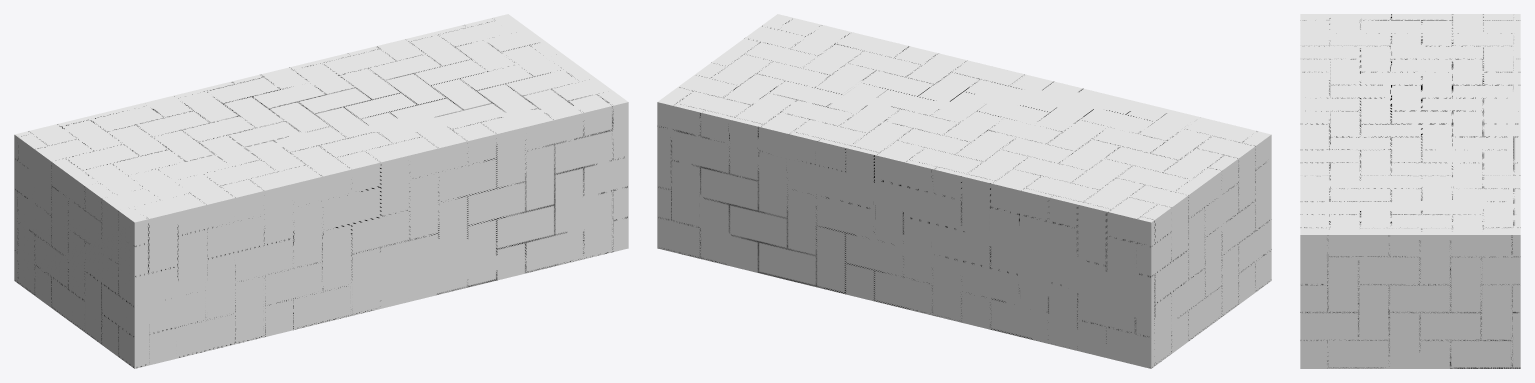
Rendered from env01.dae.
The picture shows the model from 3 angles, left to right: view 1: azimuth 30°, elevation 25°; view 2: azimuth 150°, elevation 25°; view 3: azimuth 270°, elevation 25°; orthographic projection. The views are drawn at different scales.
Parts seen in each view (by area): view 1: SketchUp; view 2: SketchUp; view 3: SketchUp.
Part boxes in pixels (box(x1,y1,x2,y2)): SketchUp: box(14, 14, 628, 368); SketchUp: box(657, 14, 1271, 368); SketchUp: box(1300, 14, 1520, 368).
Size of what is drawn, in the model's own units: 68.11 by 28.74 by 19.29.
Materials: 2 (1 with a texture image).
